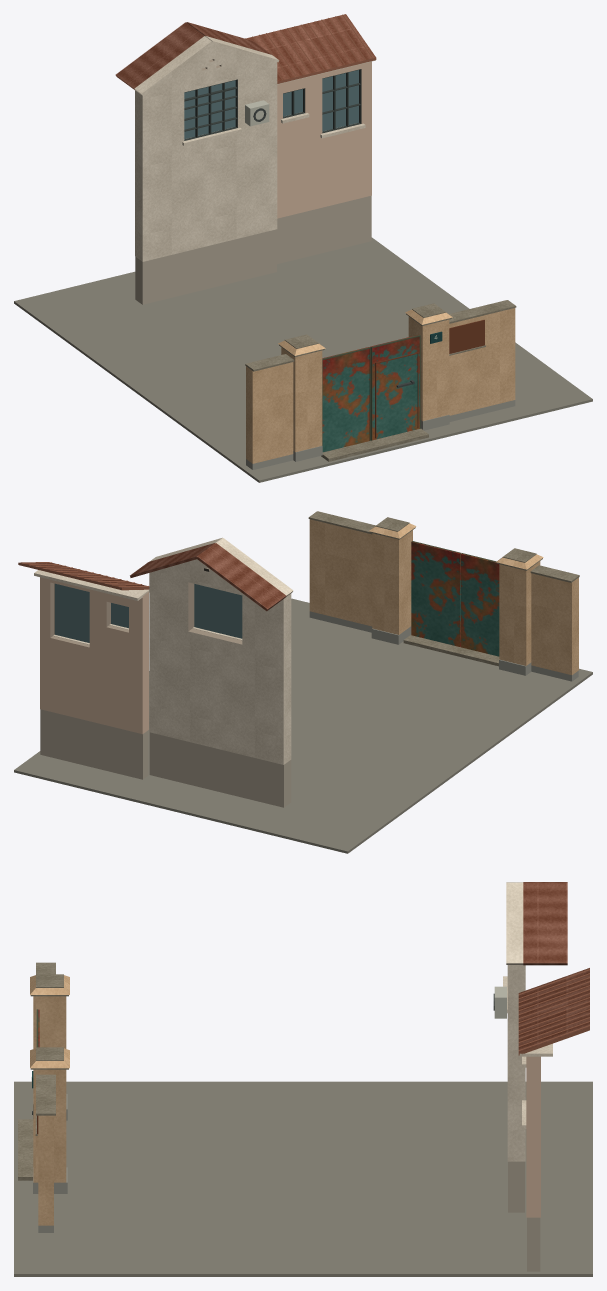
3 views of the same model, one above another, from view 1: azimuth 30°, elevation 25°; view 2: azimuth 150°, elevation 25°; view 3: azimuth 270°, elevation 25° (orthographic). The views are drawn at different scales.
Parts seen in each view (by area): view 1: 00.display-datum-not-historic-paving, 10.front-render-wall, 00.rear-section-support, 15.east-wing, 03.east-wall, 03.west-wall, 15.east-wing-tiled-roof, 02.west-painted-iron-leaf, 02.east-painted-iron-leaf, 01.East-rendered-gatepost, 01.West-rendered-gatepost, 13.clay-roof-return (+9 smaller); view 2: 00.display-datum-not-historic-paving, 10.front-render-wall, 15.east-wing, 00.rear-section-support, 03.east-wall, 01.East-rendered-gatepost, 03.west-wall, 02.east-painted-iron-leaf, 01.West-rendered-gatepost, 02.west-painted-iron-leaf, 13.clay-roof-return, 11.four-light-steel-window-glass (+8 smaller); view 3: 00.display-datum-not-historic-paving, 15.east-wing-tiled-roof, 13.clay-roof-return, 10.front-render-wall, 01.East-rendered-gatepost, 01.West-rendered-gatepost, 15.east-wing, 03.east-wall, 15.tiled-edge, 00.rear-section-support, 10.gable-edge, 00.threshold (+1 smaller).
Part boxes in pixels (x1=…): 00.display-datum-not-historic-paving: x1=14, y1=237, x2=592, y2=482; 10.front-render-wall: x1=135, y1=61, x2=277, y2=261; 00.rear-section-support: x1=135, y1=195, x2=371, y2=304; 15.east-wing: x1=277, y1=61, x2=371, y2=218; 03.east-wall: x1=449, y1=308, x2=515, y2=421; 03.west-wall: x1=246, y1=362, x2=293, y2=469; 15.east-wing-tiled-roof: x1=246, y1=14, x2=376, y2=83; 02.west-painted-iron-leaf: x1=322, y1=347, x2=369, y2=452; 02.east-painted-iron-leaf: x1=370, y1=334, x2=419, y2=440; 01.East-rendered-gatepost: x1=405, y1=303, x2=452, y2=430; 01.West-rendered-gatepost: x1=278, y1=334, x2=325, y2=461; 13.clay-roof-return: x1=115, y1=22, x2=271, y2=89; 00.display-datum-not-historic-paving: x1=14, y1=598, x2=592, y2=853; 10.front-render-wall: x1=149, y1=568, x2=291, y2=764; 15.east-wing: x1=40, y1=577, x2=148, y2=734; 00.rear-section-support: x1=40, y1=709, x2=291, y2=807; 03.east-wall: x1=309, y1=519, x2=372, y2=632; 01.East-rendered-gatepost: x1=369, y1=517, x2=416, y2=644; 03.west-wall: x1=531, y1=573, x2=578, y2=681; 02.east-painted-iron-leaf: x1=411, y1=541, x2=460, y2=646; 01.West-rendered-gatepost: x1=496, y1=548, x2=543, y2=675; 02.west-painted-iron-leaf: x1=461, y1=553, x2=499, y2=656; 13.clay-roof-return: x1=130, y1=543, x2=286, y2=611; 11.four-light-steel-window-glass: x1=194, y1=584, x2=242, y2=638; 00.display-datum-not-historic-paving: x1=14, y1=1081, x2=592, y2=1276; 15.east-wing-tiled-roof: x1=518, y1=968, x2=589, y2=1055; 13.clay-roof-return: x1=523, y1=882, x2=567, y2=965; 10.front-render-wall: x1=507, y1=965, x2=525, y2=1161; 01.East-rendered-gatepost: x1=30, y1=1047, x2=69, y2=1193; 01.West-rendered-gatepost: x1=30, y1=974, x2=69, y2=1120; 15.east-wing: x1=526, y1=1056, x2=540, y2=1217; 03.east-wall: x1=38, y1=1115, x2=53, y2=1232; 15.tiled-edge: x1=518, y1=969, x2=589, y2=1050; 00.rear-section-support: x1=508, y1=1161, x2=540, y2=1271; 10.gable-edge: x1=506, y1=882, x2=523, y2=964; 00.threshold: x1=18, y1=1119, x2=33, y2=1180.
Size of the model in its own units: 7.72 by 5.52 by 9.82.
20 materials, 5 textured.
